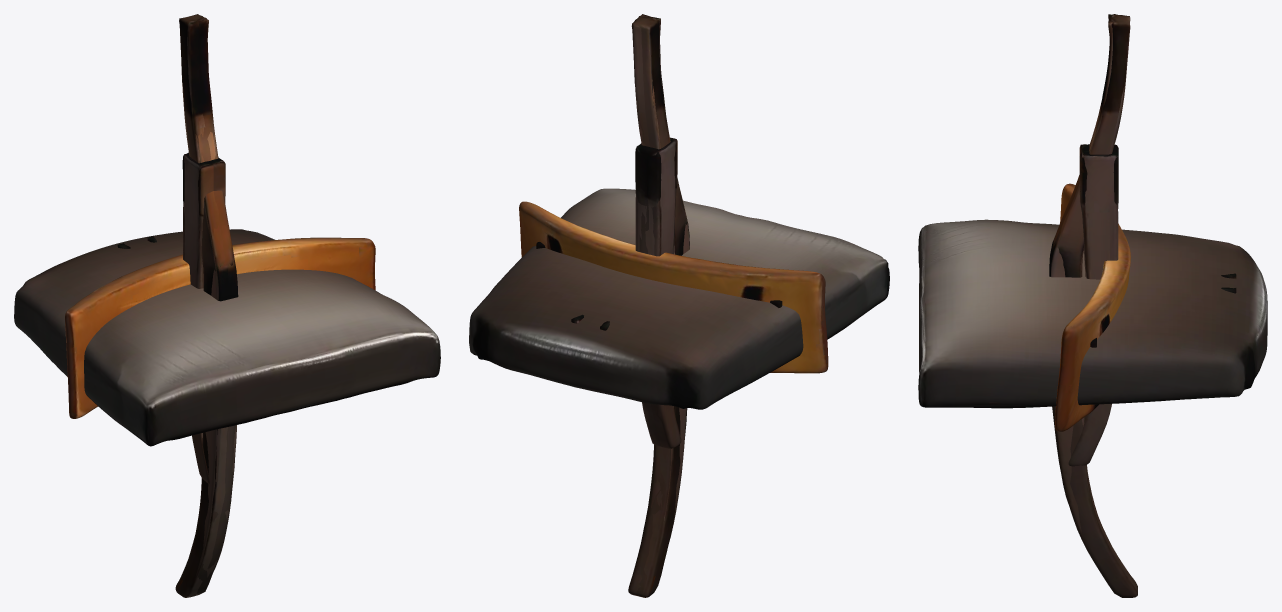
The picture shows the model from 3 angles, left to right: view 1: azimuth 30°, elevation 25°; view 2: azimuth 150°, elevation 25°; view 3: azimuth 270°, elevation 25°; orthographic projection.
Parts seen in each view (by area): view 1: root.0, root.1, root.2, root.3, root.4, root.5; view 2: root.0, root.1, root.2, root.4, root.3, root.5; view 3: root.0, root.3, root.1, root.5, root.2, root.4.
Boxes of the visible parts, <box> form: root.0: <box>14,229,440,446</box>; root.1: <box>65,237,375,418</box>; root.2: <box>175,16,237,597</box>; root.3: <box>182,14,238,597</box>; root.4: <box>183,152,225,483</box>; root.5: <box>182,154,223,288</box>; root.0: <box>469,188,889,409</box>; root.1: <box>519,201,828,373</box>; root.2: <box>630,14,689,597</box>; root.4: <box>635,137,681,448</box>; root.3: <box>628,15,689,596</box>; root.5: <box>635,138,677,447</box>; root.0: <box>918,219,1267,408</box>; root.3: <box>1049,14,1137,597</box>; root.1: <box>1055,183,1130,431</box>; root.5: <box>1068,144,1118,466</box>; root.2: <box>1049,14,1137,590</box>; root.4: <box>1079,144,1118,417</box>.
Size of the model in its own units: 13947 by 25000 by 13727.
Materials: 1 (1 with a texture image).
